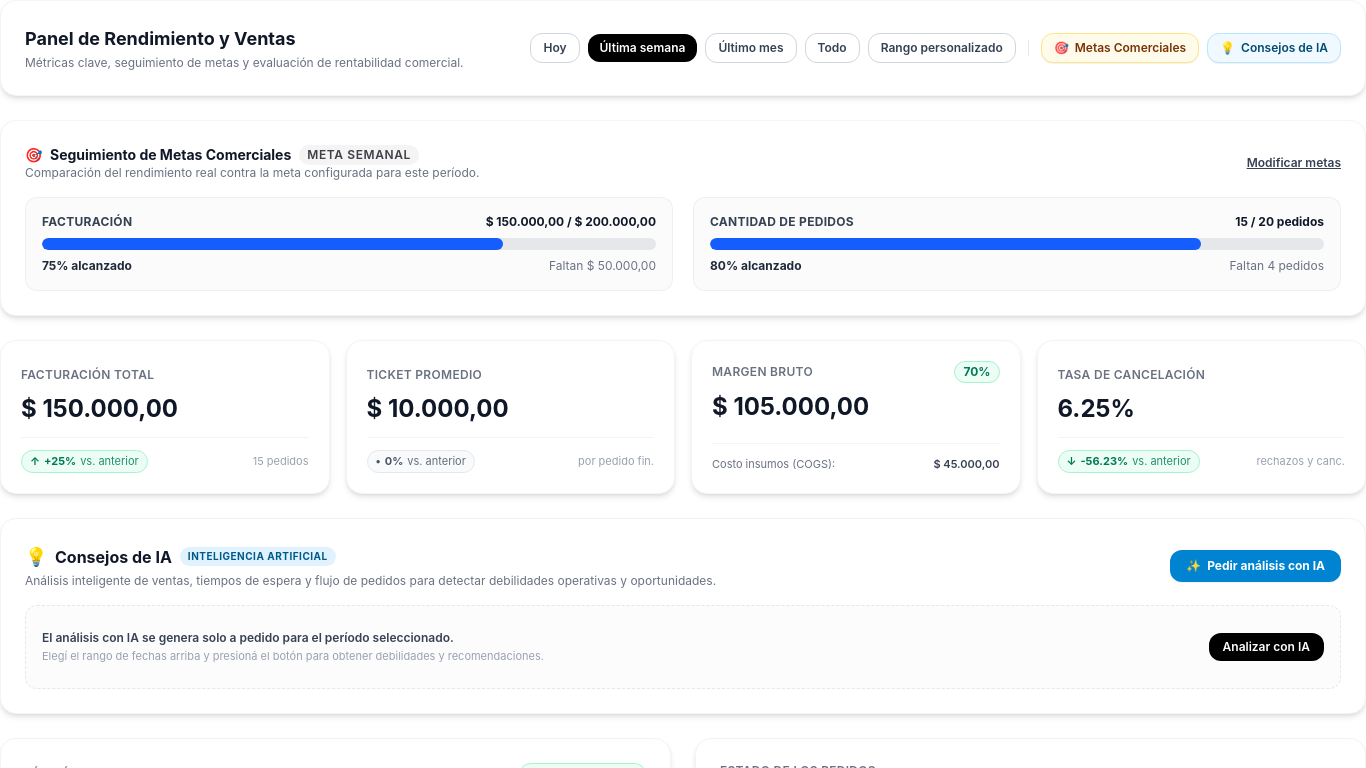
Test: Dashboard de Métricas, Metas y Asistente IA › US-49: Dashboard de Metas y Rendimiento › abre el modal de Metas Comerciales al hacer clic en el botón
Click the button "🎯 Metas Comerciales". click: (1120, 48)
box: [1041,33,1199,63]
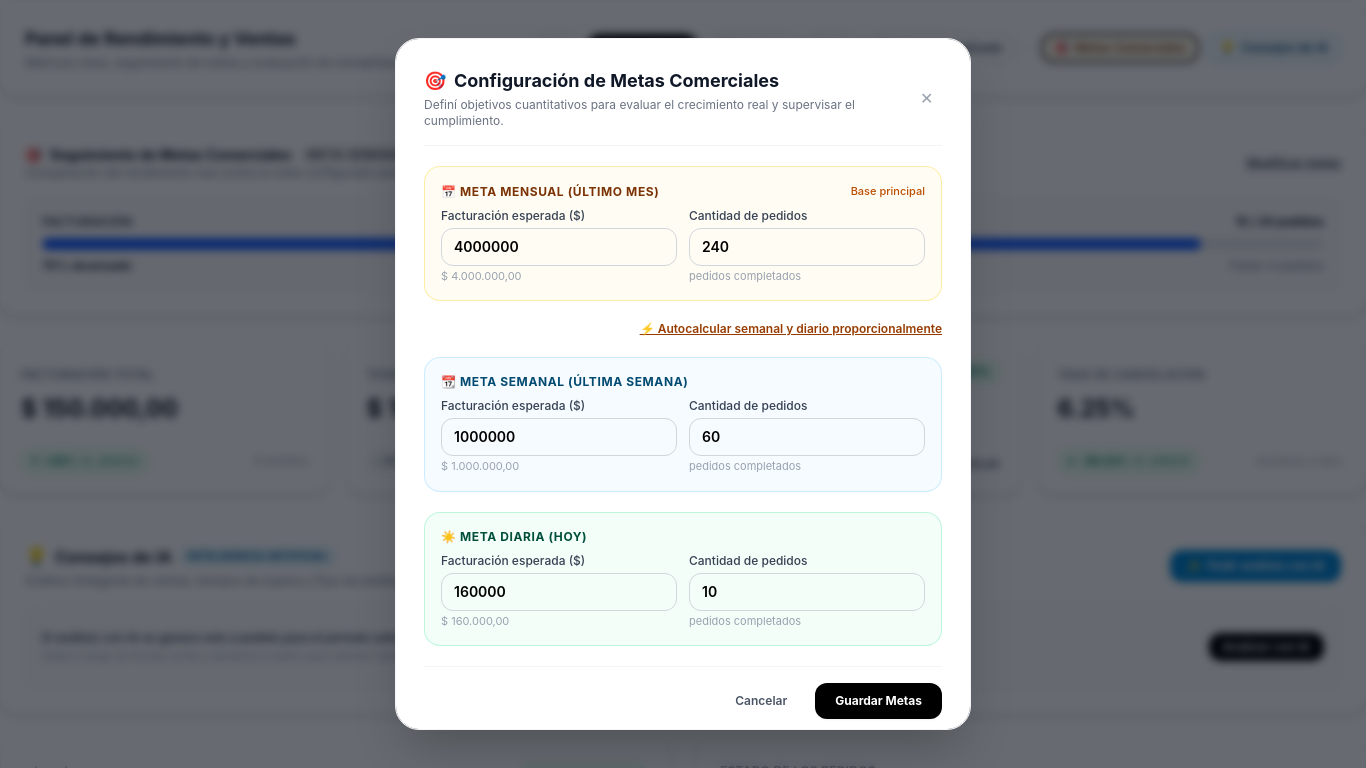
expect the dialog "Configuración de Metas Comerciales" is shown: met
expect the text "📅 Meta Mensual (Último mes)" is shown: met, box [441,184,659,200]
